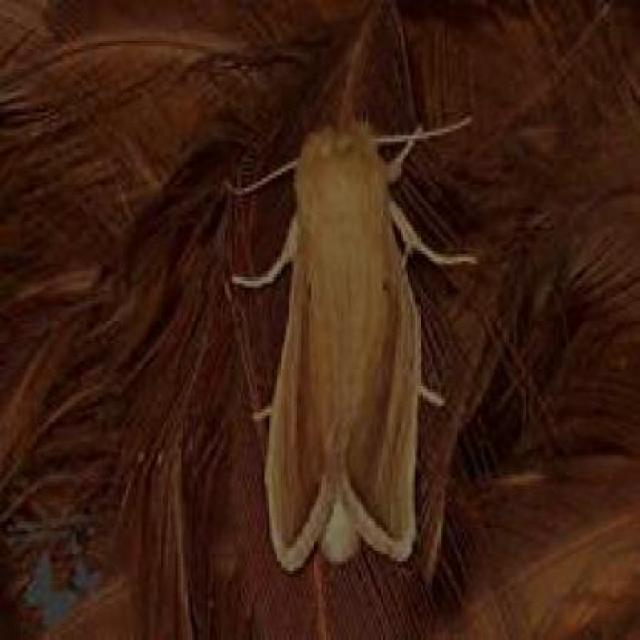stem-borer: (257, 110, 426, 588)
